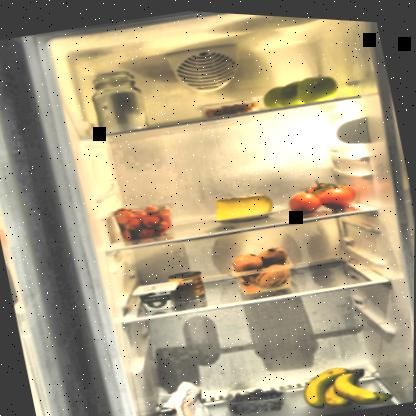apple: (256, 62, 342, 111)
banana: (296, 348, 396, 415)
blueberries: (225, 374, 295, 415)
cheese: (211, 182, 276, 225)
corn: (167, 262, 211, 301)
onion: (224, 237, 293, 295)
shrimp: (201, 91, 264, 120)
strawberries: (108, 192, 181, 248)
tomato: (283, 163, 363, 217)
